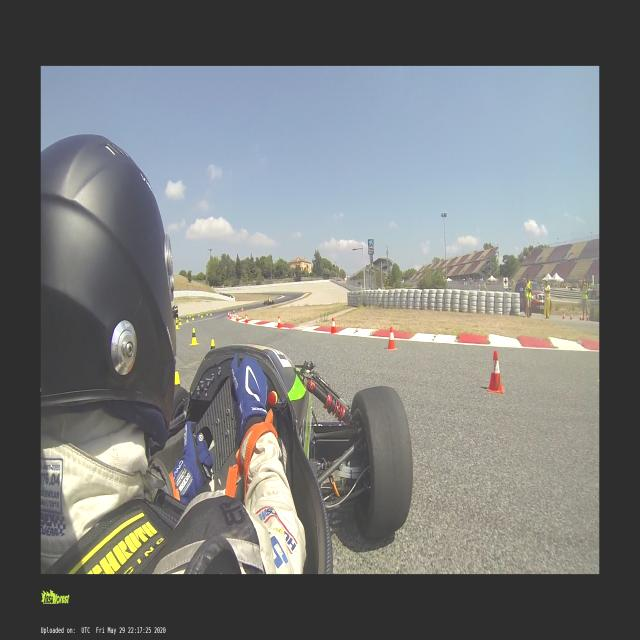orange_cone: (487, 350, 505, 394), (387, 327, 398, 351), (329, 317, 337, 334), (276, 316, 282, 328), (245, 314, 248, 324), (562, 312, 565, 320), (586, 314, 589, 322), (236, 315, 239, 322), (579, 314, 582, 321), (230, 312, 232, 320), (570, 314, 572, 320), (228, 312, 230, 317), (233, 309, 235, 314), (242, 308, 242, 312)
yellow_cone: (190, 328, 198, 346), (174, 372, 180, 387), (211, 339, 215, 349), (175, 321, 179, 329), (175, 317, 178, 323), (186, 316, 188, 322), (192, 314, 194, 320), (179, 318, 181, 324), (200, 312, 202, 318), (206, 310, 208, 316), (210, 310, 212, 316), (189, 314, 191, 318), (198, 312, 200, 316)
